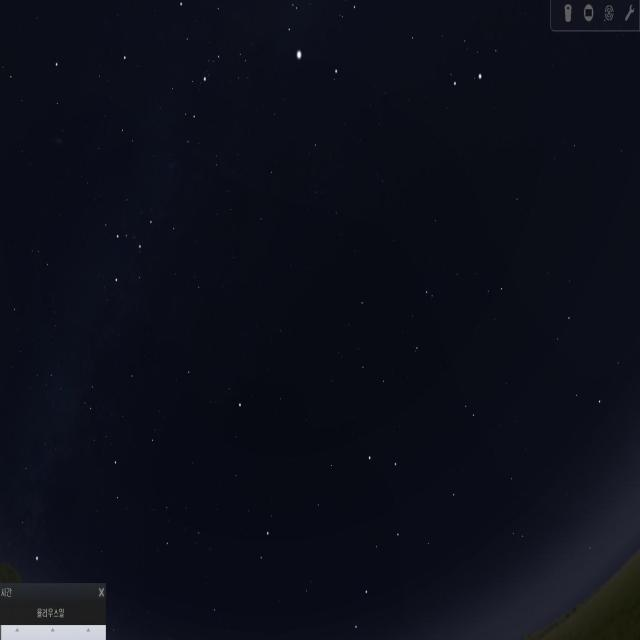ursa_major: (347, 448, 404, 640)
